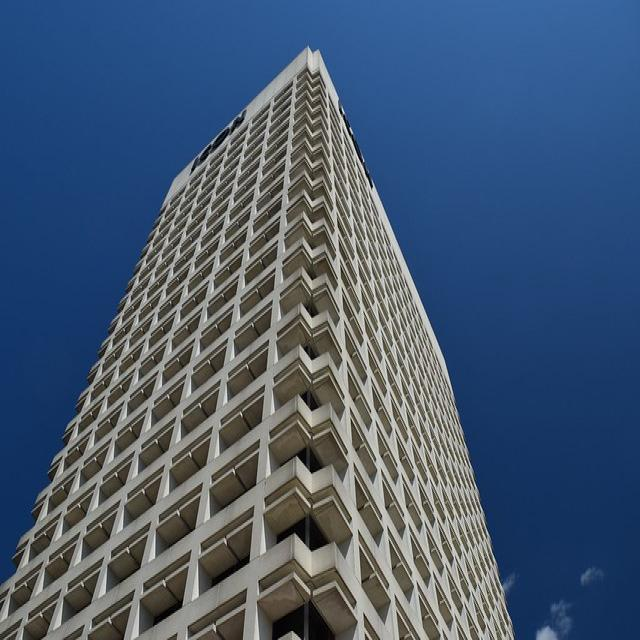building: (8, 42, 514, 638)
